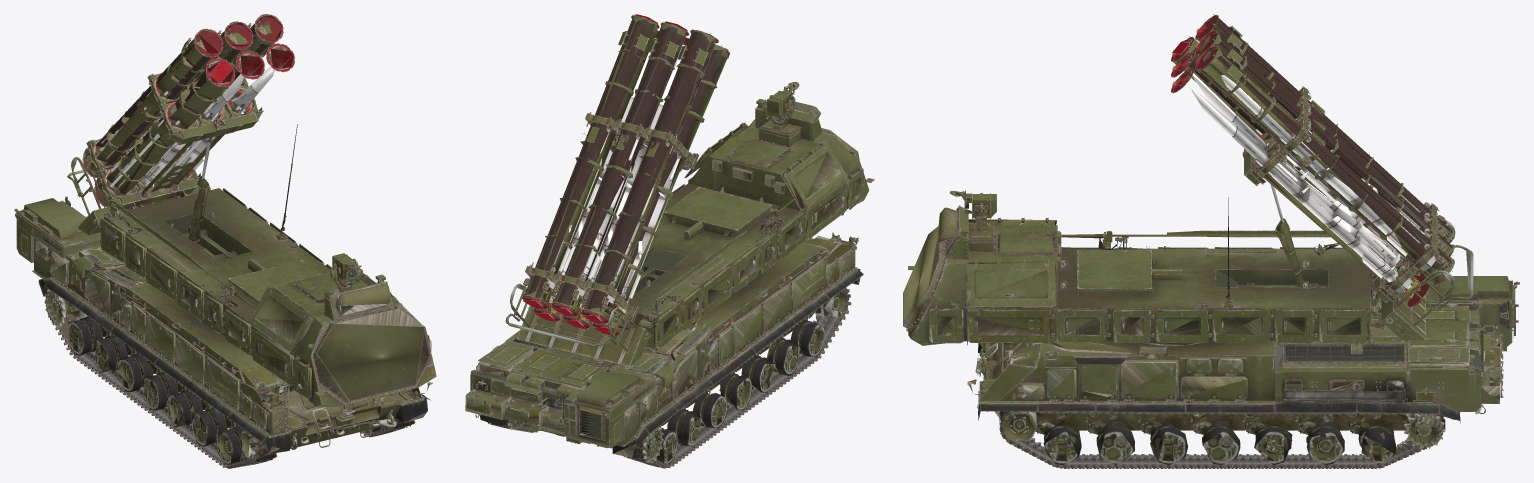
The model's file is buk1.glb.
3 views of the same model, side by side, from view 1: azimuth 30°, elevation 25°; view 2: azimuth 150°, elevation 25°; view 3: azimuth 270°, elevation 25° (orthographic). The views are drawn at different scales.
Visible parts, largest first — view 1: Object_35, Object_9, Object_7, Object_19, Object_22, Object_10, Object_14, Object_33, Object_18, Object_5, Object_11, Object_20 (+12 smaller); view 2: Object_35, Object_7, Object_9, Object_19, Object_21, Object_10, Object_11, Object_14, Object_5, Object_12, Object_18, Object_22 (+15 smaller); view 3: Object_35, Object_9, Object_10, Object_7, Object_17, Object_4, Object_8, Object_30, Object_12, Object_11, Object_22, Object_21 (+11 smaller).
Part boxes in pixels (box(x1,y1,x2,y2)): Object_35: box(99, 188, 436, 406); Object_9: box(16, 198, 412, 437); Object_7: box(83, 15, 282, 227); Object_19: box(38, 277, 336, 435); Object_22: box(86, 77, 263, 210); Object_10: box(16, 200, 424, 448); Object_14: box(69, 316, 227, 446); Object_33: box(82, 14, 294, 207); Object_18: box(35, 240, 432, 447); Object_5: box(45, 290, 276, 468); Object_11: box(14, 208, 420, 437); Object_20: box(154, 356, 291, 453); Object_35: box(621, 98, 874, 349); Object_7: box(521, 15, 729, 339); Object_9: box(511, 243, 854, 445); Object_19: box(612, 250, 855, 457); Object_21: box(505, 283, 650, 366); Object_10: box(470, 232, 858, 448); Object_11: box(470, 237, 850, 448); Object_14: box(656, 337, 800, 464); Object_5: box(626, 287, 851, 468); Object_12: box(465, 261, 810, 447); Object_18: box(624, 257, 820, 424); Object_22: box(554, 112, 699, 323); Object_35: box(903, 205, 1372, 345); Object_9: box(979, 276, 1512, 430); Object_10: box(979, 300, 1512, 433); Object_7: box(1173, 15, 1454, 327); Object_17: box(978, 311, 1508, 464); Object_4: box(999, 403, 1445, 468); Object_8: box(1036, 347, 1469, 465); Object_30: box(1191, 88, 1420, 298); Object_12: box(977, 329, 1503, 411); Object_11: box(977, 281, 1519, 414); Object_22: box(1242, 101, 1439, 302); Object_21: box(1370, 219, 1473, 340).
Bounding box in the file's own units: 3.39 × 7.13 × 10.06.
14 materials, 14 textured.
